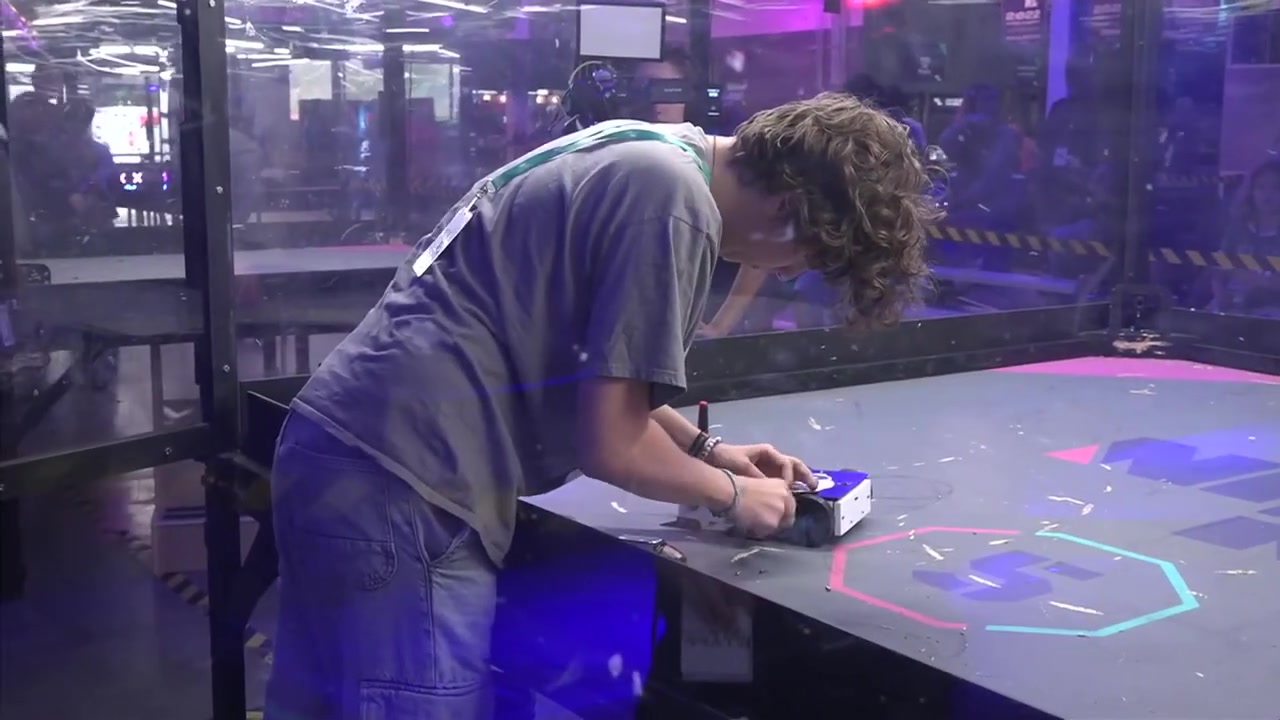combatbot: (677, 463, 875, 542)
